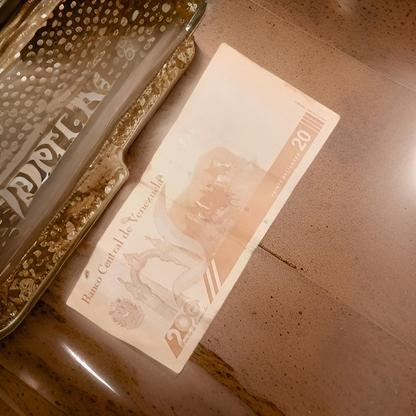twenty-back-vef: (64, 41, 340, 374)
